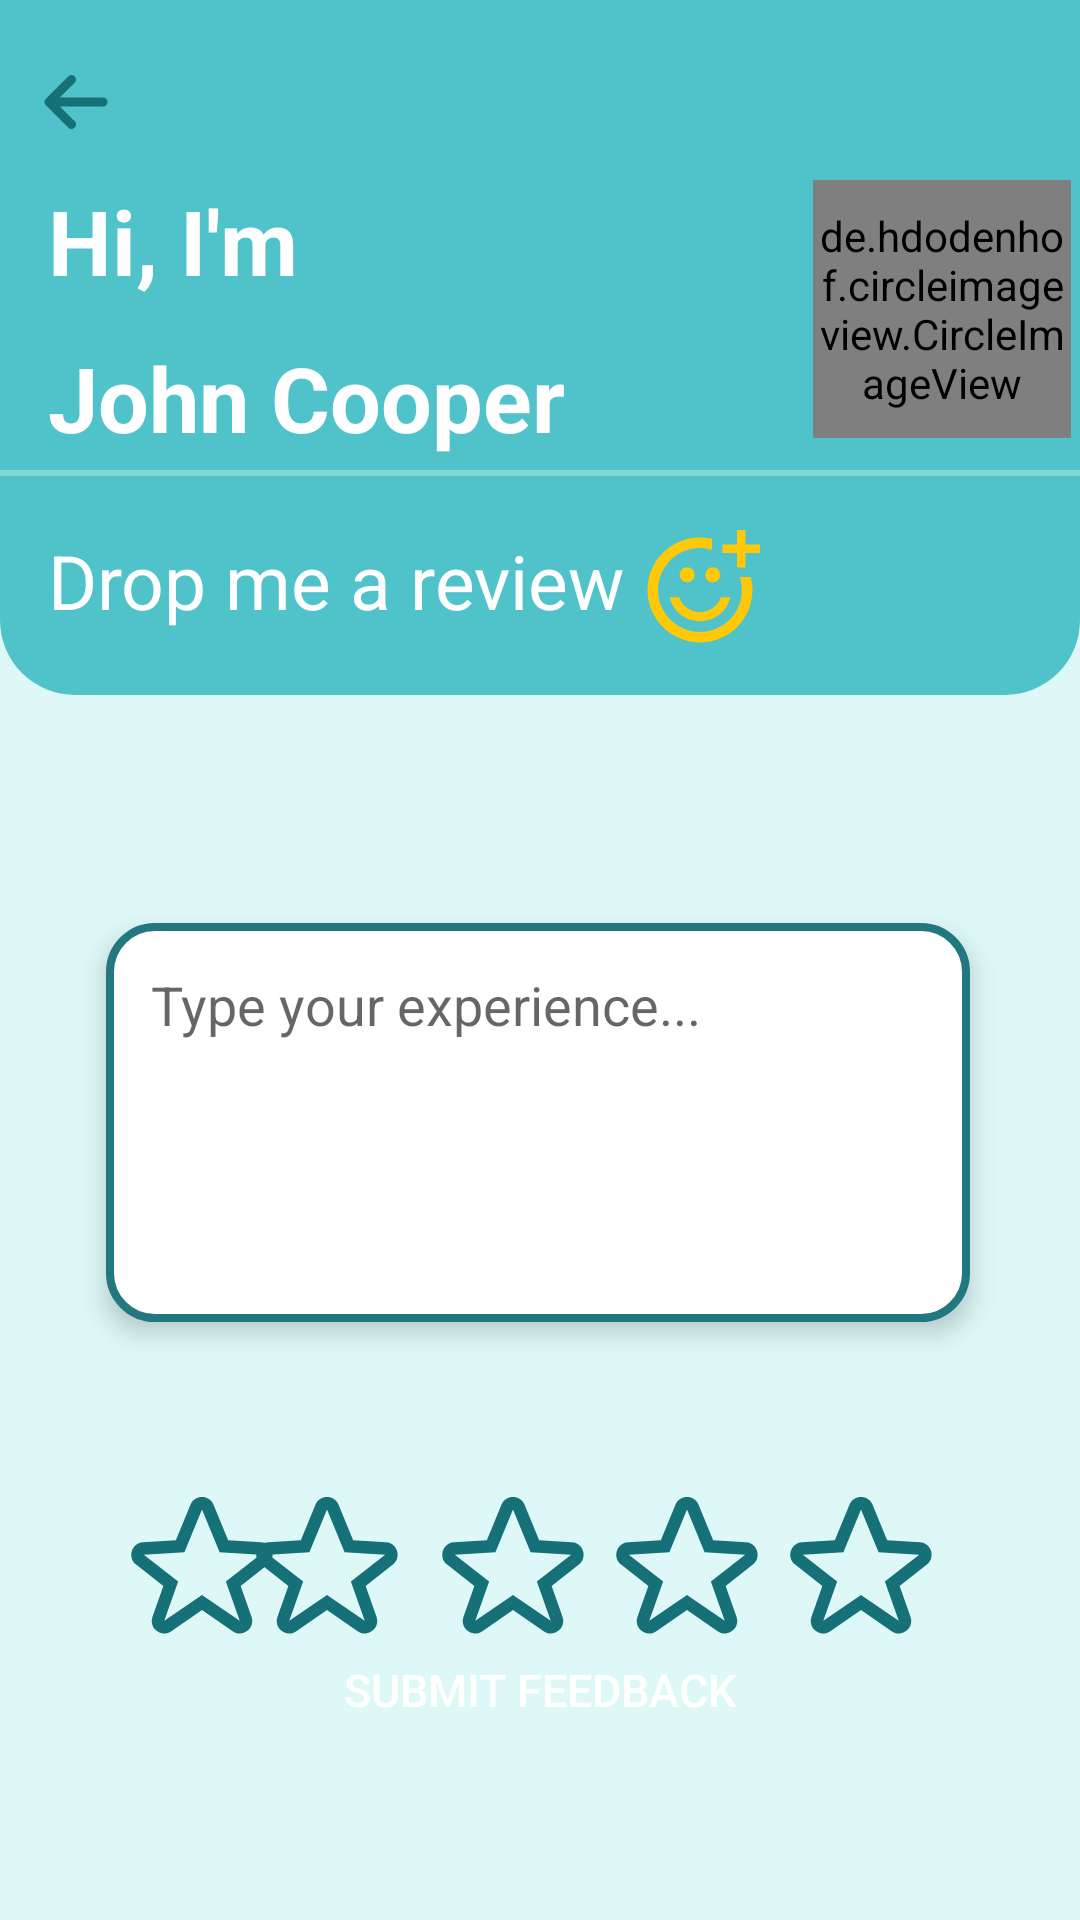

Locate icon controls on the screen. Image size 1080 × 1920, boxes as bbox=(x1, y1, x2, y2).
leftarrow: bbox=(44, 75, 108, 129)
